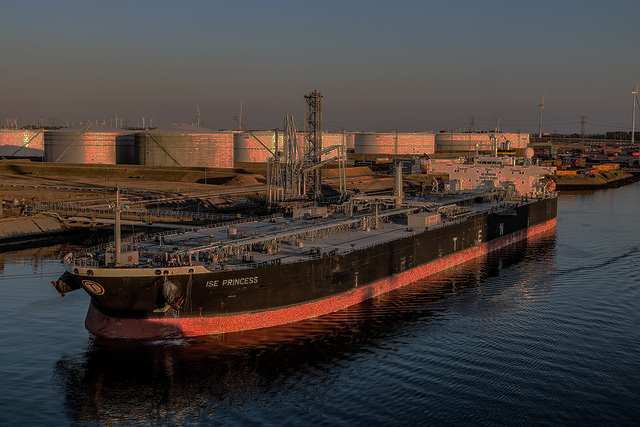tanker: (54, 144, 563, 342)
